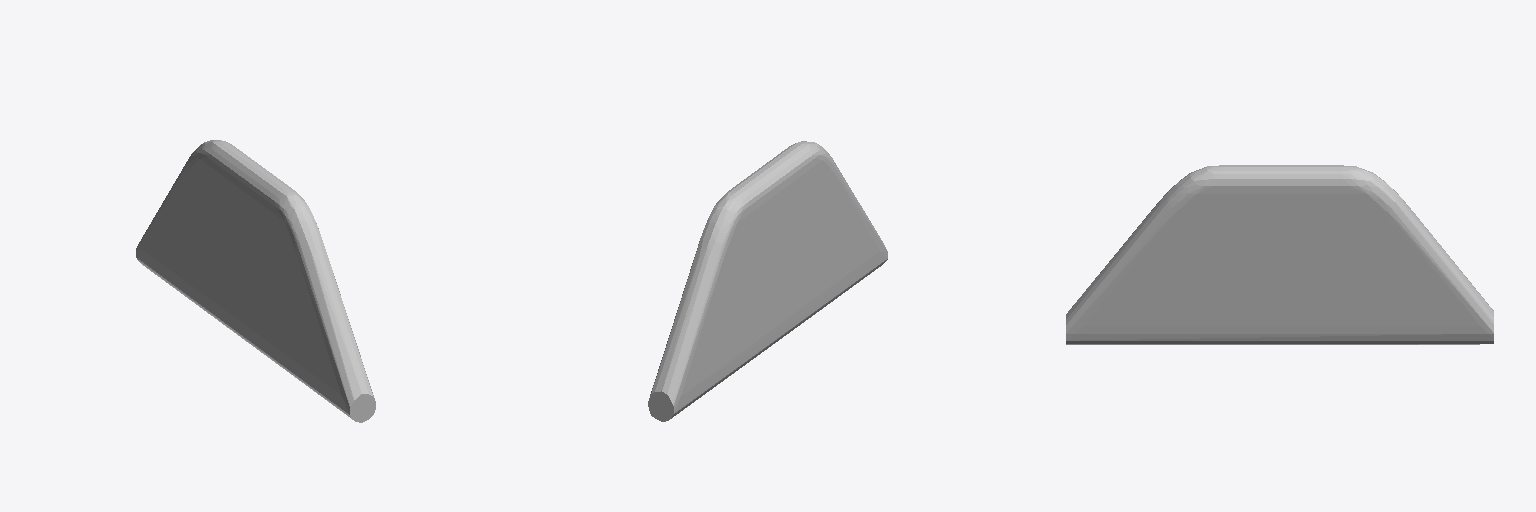
Rendered from dish_rack_collision_13.obj.
The picture shows the model from 3 angles: view 1: azimuth 30°, elevation 25°; view 2: azimuth 150°, elevation 25°; view 3: azimuth 270°, elevation 25°; orthographic projection.
Bounding box in the file's own units: 0.0088 × 0.0561 × 0.1231.